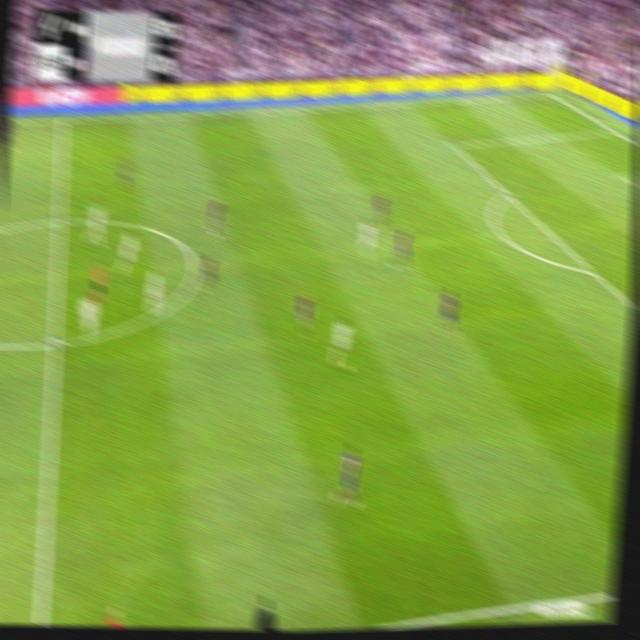bigarea_top_inner: (448, 138, 461, 153)
bigarea_top_outter: (608, 123, 619, 136)
bottom_arc_area_intersection: (584, 260, 600, 281)
halfcircle_bottom: (45, 327, 65, 359)
halfcircle_top: (50, 206, 68, 236)
midline_top_intersection: (57, 113, 69, 129)
smallarea_top_inner: (616, 168, 628, 184)
top_arc_area_intersection: (501, 185, 514, 202)
